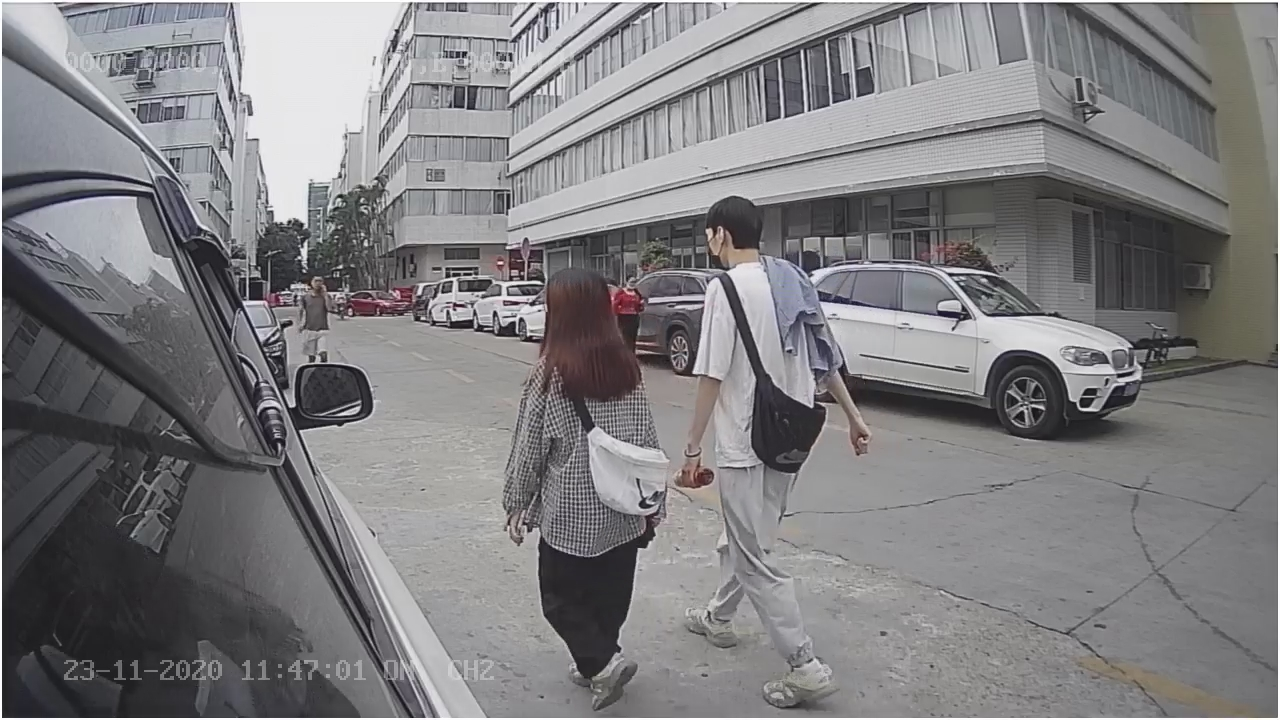person: (684, 182, 866, 706), (507, 248, 663, 695)
